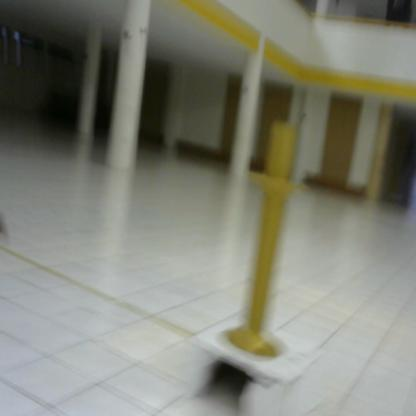pole: (229, 115, 313, 378)
